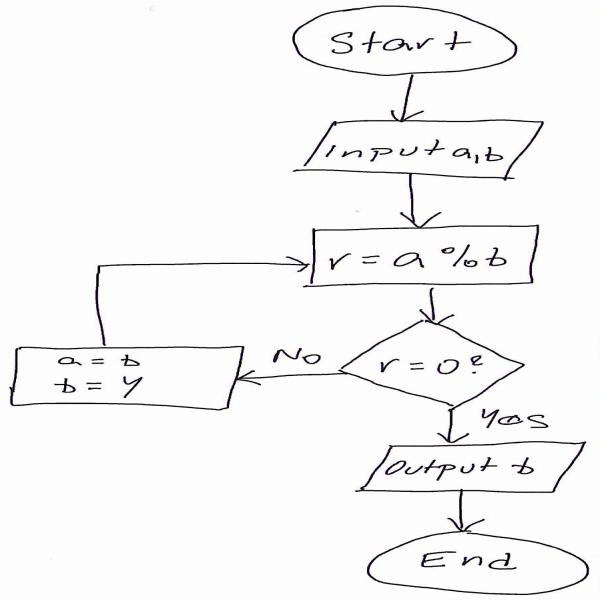arrow: (87, 254, 330, 348), (234, 363, 355, 399), (390, 177, 445, 232), (387, 76, 436, 127), (430, 399, 478, 447), (439, 491, 481, 537), (412, 282, 454, 326)
data: (301, 116, 547, 178), (355, 435, 583, 492)
decision: (312, 314, 538, 414)
process: (5, 342, 252, 412), (306, 221, 544, 292)
terminator: (287, 0, 532, 78), (350, 527, 597, 600)
text: (323, 236, 519, 274), (316, 24, 478, 59), (325, 138, 508, 165), (383, 458, 540, 482), (418, 542, 534, 574), (372, 354, 502, 377), (56, 375, 161, 400), (274, 339, 330, 371), (483, 410, 561, 432), (43, 350, 148, 366)
